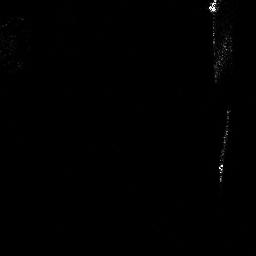ship: (206, 1, 233, 89), (215, 108, 233, 183)
